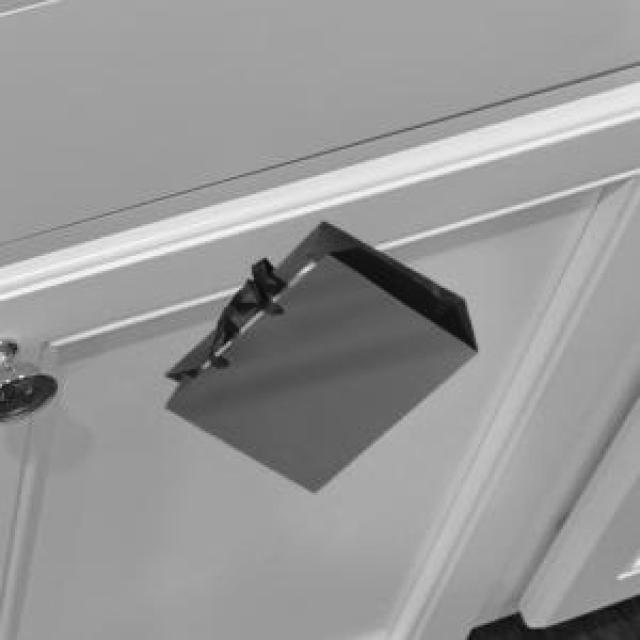paper: (162, 218, 474, 489)
